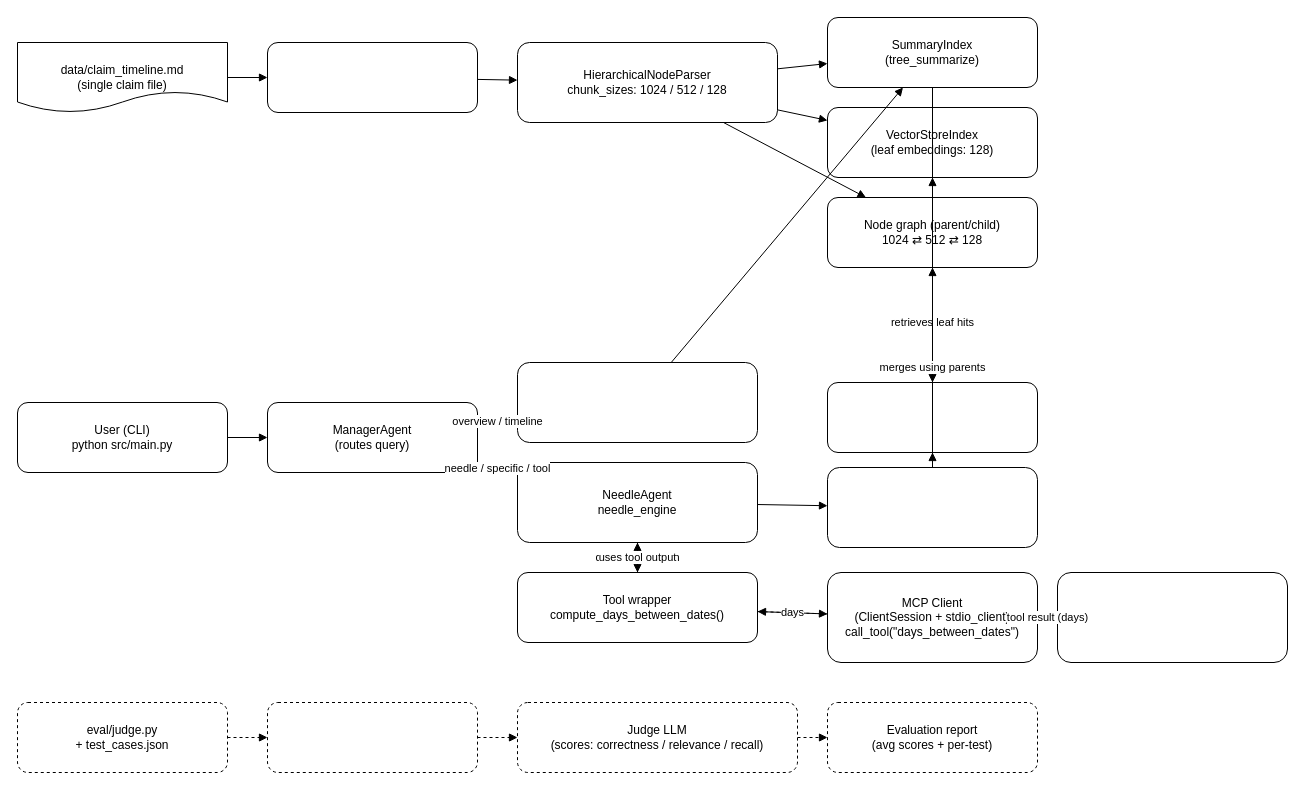
This 1305x790 diagram has some shape labels left out. Here are the shapes that lost their labels. From the top down, the box of each, then its label:
(266, 42, 478, 112): Loader SimpleDirectoryReader
(516, 362, 758, 442): SummarizationAgent summary_engine
(826, 382, 1038, 452): Answer (to user)
(826, 466, 1038, 548): AutoMergingRetriever (merge leaf hits → parent nodes)
(1056, 572, 1288, 662): MCP Server (STDIO) src/mcp/date_server.py Tool: days_between_dates
(266, 702, 478, 772): System under test (indexes + agents)
